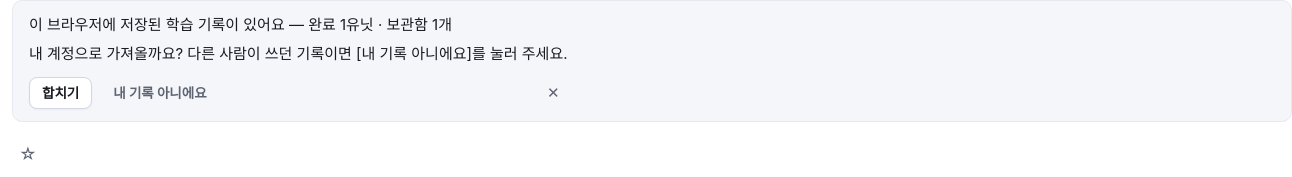
병합 배너 3선택 (AC-G-07~11) › [합치기] 성공이면 병합 API를 부르고 브라우저 기록을 지운다 (AC-G-08)
Click the button "합치기": (61, 93) [29,77,92,109]
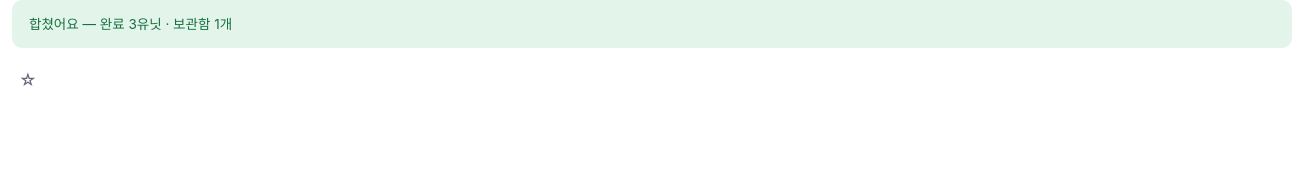
Expected: the text "합쳤어요 — 완료 3유닛 · 보관함 1개" is shown, [12,0,1291,48]
